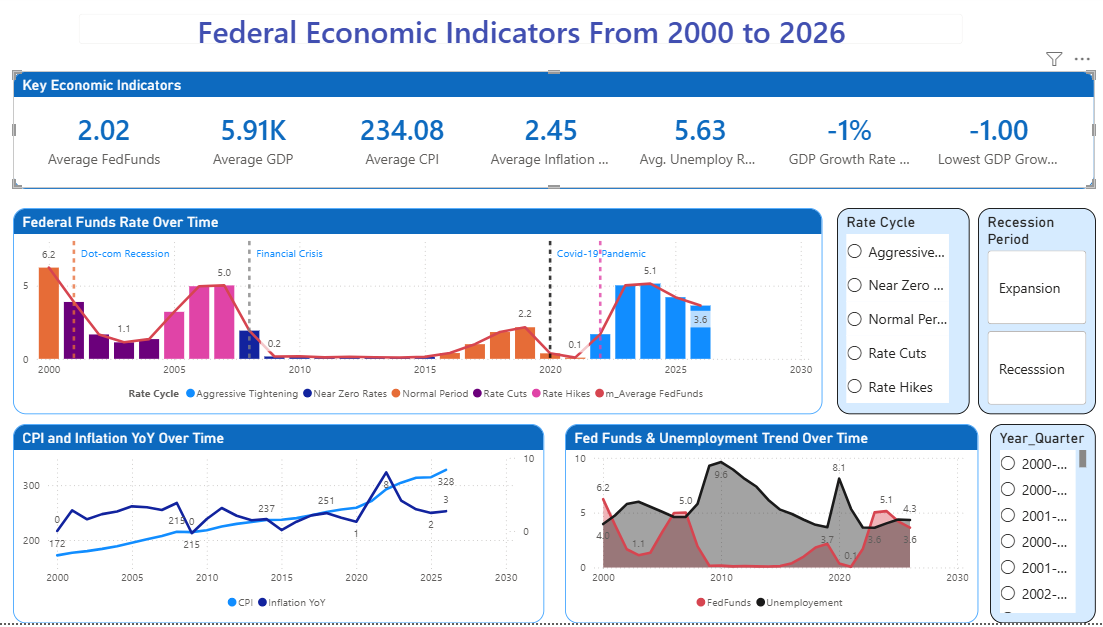

The dashboard page shown, as its layout file describes it:
{"tool":"powerbi","page":{"name":"Overview","canvas":[1280,720],"ordinal":0},"visuals":[{"type":"cardVisual","title":"Key Economic Indicators","fields":{"Data":["Measure_Table.m_Average FedFunds","Measure_Table.m_Average GDP","Measure_Table.m_Average CPI","Measure_Table.m_Average Inflation","Measure_Table.m_Average Unemployement","Measure_Table.m_GDP Growth Rate QoQ","Measure_Table.m_Lowest GDP Growth_2"]},"box":[17.8,82.6,1248.4,136],"z":0},{"type":"lineStackedColumnComboChart","title":"Federal Funds Rate Over Time","fields":{"Category":["Calendar.YEAR"],"Y":["Measure_Table.m_Average FedFunds"],"Series":["FACT_ECONOMY.Rate Cycle"],"Y2":["Measure_Table.m_Average FedFunds"]},"box":[17.8,241.3,934.3,238],"z":1000},{"type":"lineChart","title":"CPI and Inflation YoY Over Time","fields":{"Y":["Measure_Table.m_Average CPI"],"Category":["Calendar.YEAR"],"Y2":["Measure_Table.m_Average Inflation"]},"box":[17.3,490.4,612.7,229.6],"z":2000},{"type":"lineChart","title":"Fed Funds & Unemployment Trend Over Time","fields":{"Y":["Measure_Table.m_Average FedFunds","Measure_Table.m_Average Unemployement"],"Category":["Calendar.YEAR"]},"box":[654.2,490.4,476.5,229.6],"z":3000},{"type":"advancedSlicerVisual","fields":{"Values":["FACT_ECONOMY.Recession Period"]},"box":[1130.2,241.3,136,238],"z":4000},{"type":"listSlicer","fields":{"Values":["FACT_ECONOMY.Rate Cycle"]},"box":[968.1,241.2,153.5,237.7],"z":5000},{"type":"cardVisual","fields":{"Data":["Measure_Table.dt_Main"]},"box":[76.1,0,1054.1,69.6],"z":6000},{"type":"listSlicer","title":"Year_Quarter","fields":{"Values":["Calendar.Year_Quarter"]},"box":[1144.6,490.4,122.3,229.6],"z":7000}]}

Visuals, with their boxes in screenshot pixels (x1, y1, x2, y2), scaled from the page's 1280x720 canvas onto the 1103x627 screenshot:
"Key Economic Indicators" cardVisual: crop(15, 72, 1091, 190)
"Federal Funds Rate Over Time" lineStackedColumnComboChart: crop(15, 210, 820, 417)
"CPI and Inflation YoY Over Time" lineChart: crop(15, 427, 543, 626)
"Fed Funds & Unemployment Trend Over Time" lineChart: crop(564, 427, 974, 626)
advancedSlicerVisual - FACT_ECONOMY.Recession Period: crop(974, 210, 1091, 417)
listSlicer - FACT_ECONOMY.Rate Cycle: crop(834, 210, 967, 417)
cardVisual - Measure_Table.dt_Main: crop(66, 0, 974, 61)
"Year_Quarter" listSlicer: crop(986, 427, 1092, 626)
